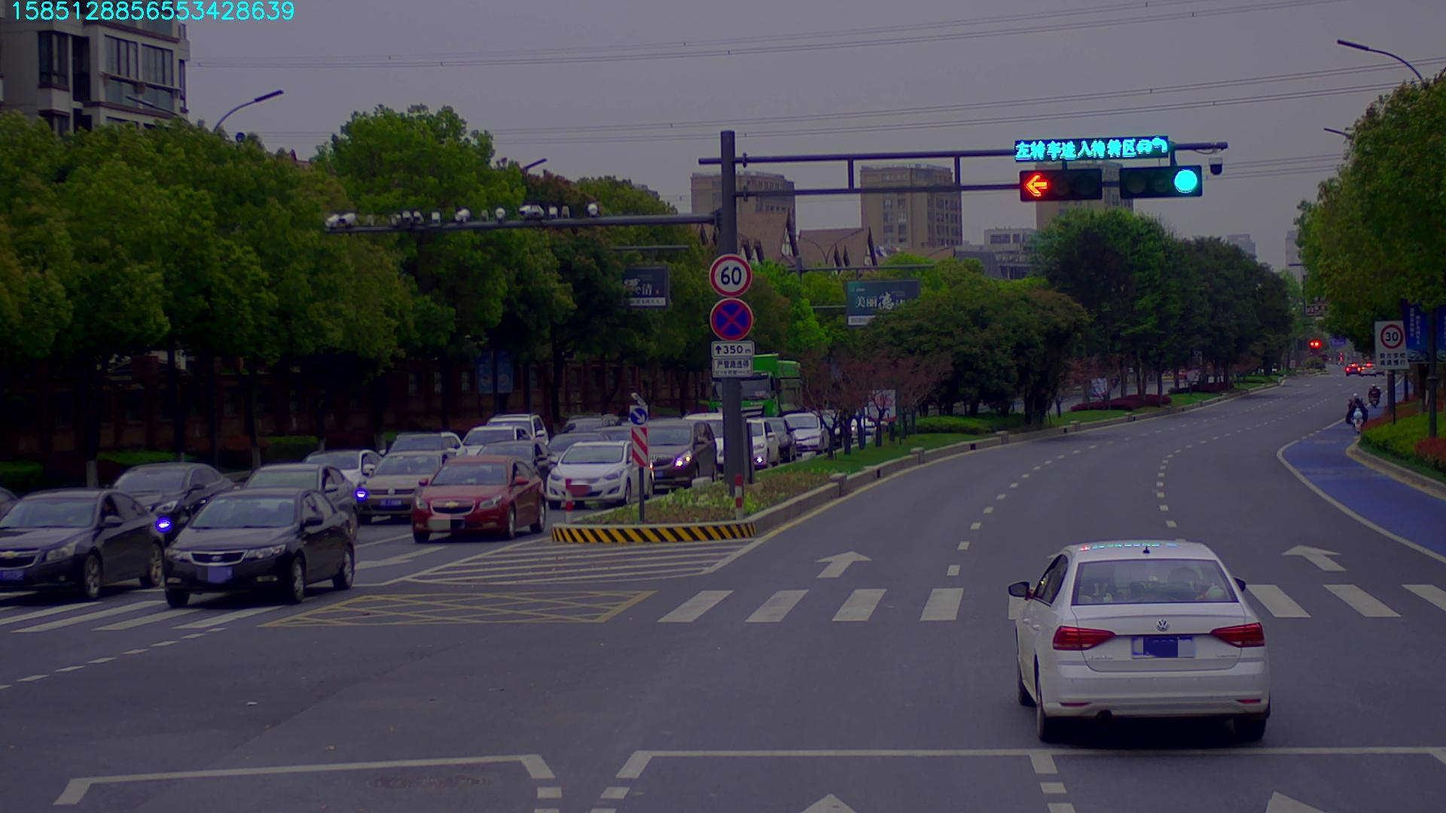green: (1123, 165, 1201, 197)
red: (1016, 169, 1096, 199)
wait_on: (1012, 138, 1176, 157)
